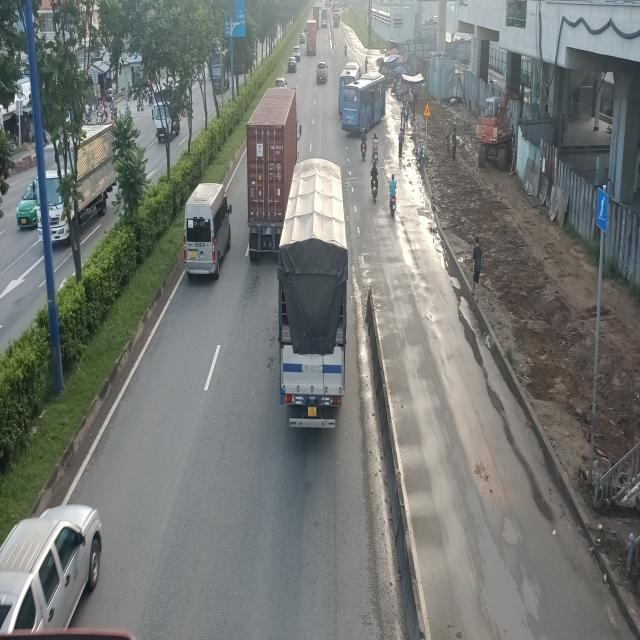car: (0, 504, 102, 639)
coach: (339, 75, 388, 137)
container: (249, 86, 302, 256)
truck: (276, 161, 350, 433)
van: (186, 182, 233, 279)
